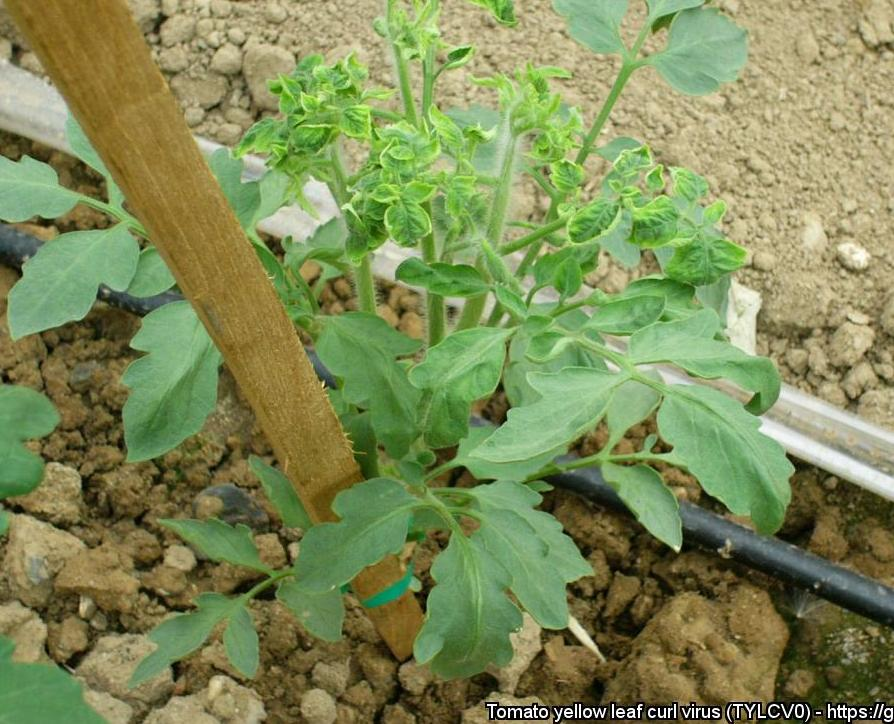Tomato leaf: (658, 381, 789, 546), (485, 344, 654, 457), (307, 300, 429, 447), (410, 526, 523, 683), (114, 296, 216, 458), (4, 217, 128, 342), (291, 476, 415, 599), (470, 506, 584, 629), (649, 5, 751, 101), (0, 135, 89, 240), (598, 455, 686, 549), (156, 508, 276, 572), (551, 0, 645, 73), (579, 290, 667, 340)
